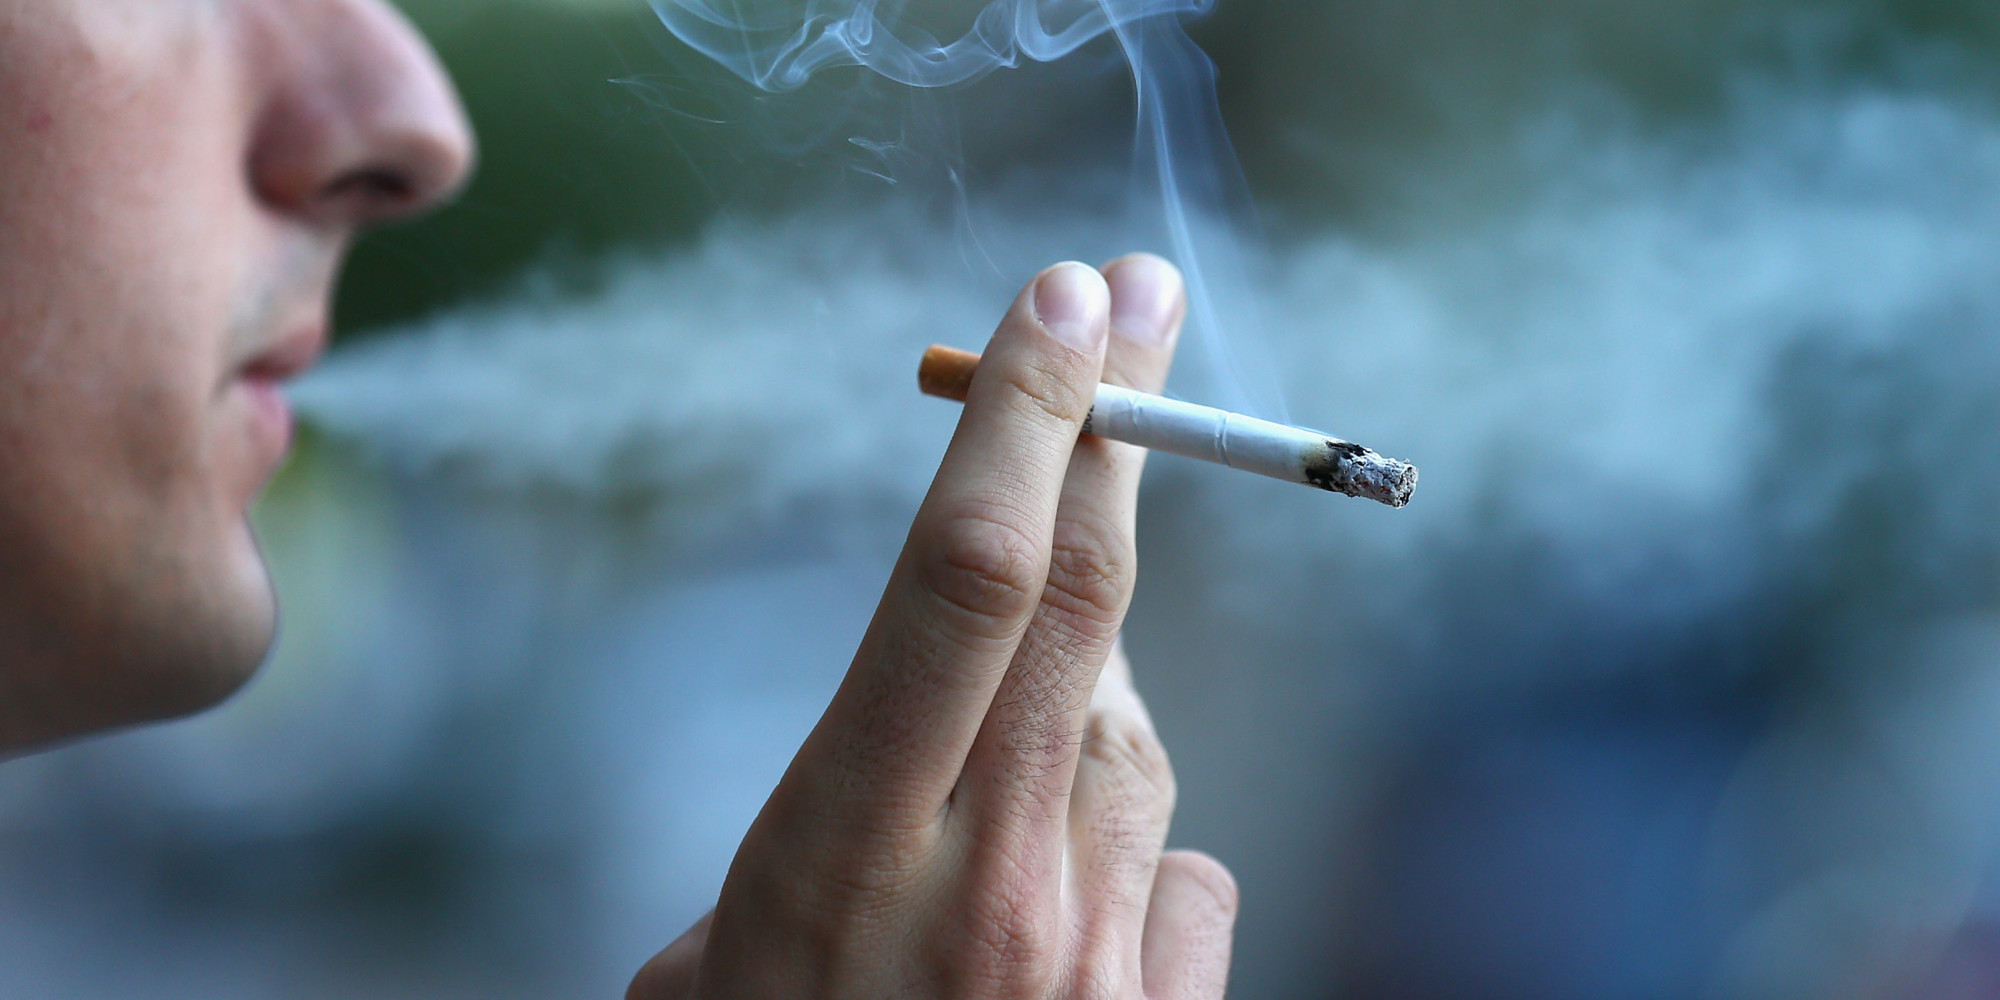cigarette: (904, 329, 1427, 557)
